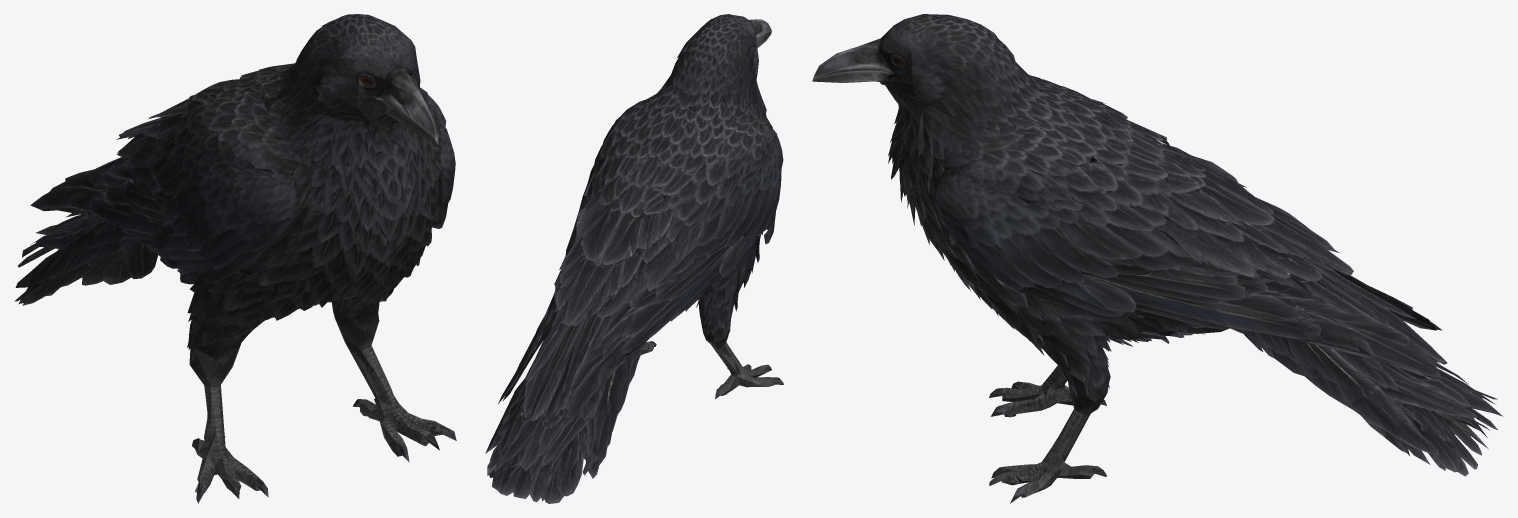
The model's file is crow.glb.
The picture shows the model from 3 angles, left to right: view 1: azimuth 30°, elevation 25°; view 2: azimuth 150°, elevation 25°; view 3: azimuth 270°, elevation 25°; orthographic projection. The views are drawn at different scales.
Parts seen in each view (by area): view 1: output_unwrapped; view 2: output_unwrapped; view 3: output_unwrapped.
Part boxes in pixels (x1,y1,x2,y2): output_unwrapped: (14, 14, 456, 503); output_unwrapped: (485, 14, 783, 503); output_unwrapped: (812, 14, 1502, 503).
Size of the model in its own units: 0.1934 by 0.35 by 0.4996.
Materials: 1 (1 with a texture image).
